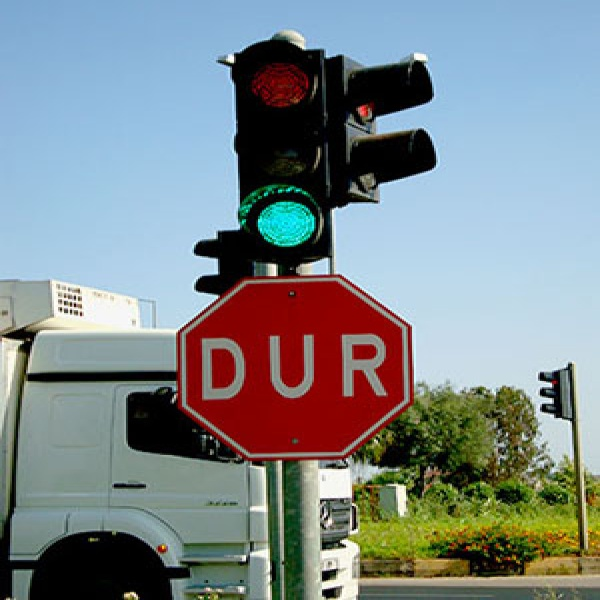stop: (174, 282, 412, 464)
